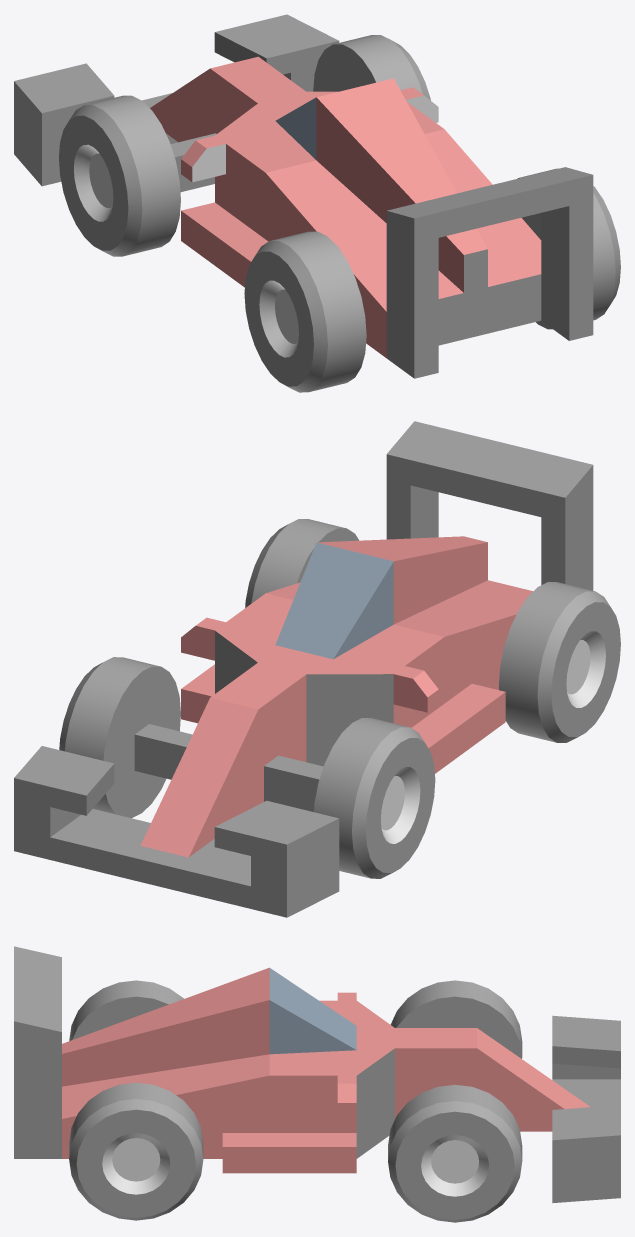
Rendered from carFormula.gltf.
3 renders of one model, top to bottom at view 1: azimuth 30°, elevation 25°; view 2: azimuth 150°, elevation 25°; view 3: azimuth 270°, elevation 25°, orthographic. The views are drawn at different scales.
Parts seen in each view (by area): view 1: body 2, wheelBackLeft 2, wheelFrontLeft 2, wheelFrontRight 2, wheelBackRight 2; view 2: body 2, wheelBackLeft 2, wheelFrontLeft 2, wheelFrontRight 2, wheelBackRight 2; view 3: body 2, wheelFrontRight 2, wheelBackRight 2, wheelFrontLeft 2, wheelBackLeft 2.
Boxes of the visible parts, x1,y1,x2,y2 form: body 2: [14, 14, 593, 378]; wheelBackLeft 2: [244, 231, 366, 392]; wheelFrontLeft 2: [59, 95, 180, 256]; wheelFrontRight 2: [313, 35, 430, 100]; wheelBackRight 2: [517, 168, 620, 329]; body 2: [14, 421, 593, 917]; wheelBackLeft 2: [498, 582, 620, 742]; wheelFrontLeft 2: [314, 718, 435, 878]; wheelFrontRight 2: [59, 657, 180, 818]; wheelBackRight 2: [245, 519, 358, 607]; body 2: [14, 946, 620, 1203]; wheelFrontRight 2: [388, 1084, 522, 1222]; wheelBackRight 2: [69, 1082, 203, 1220]; wheelFrontLeft 2: [390, 980, 522, 1058]; wheelBackLeft 2: [69, 980, 183, 1040].
Bounding box in the file's own units: 0.635 × 0.4109 × 1.27.
